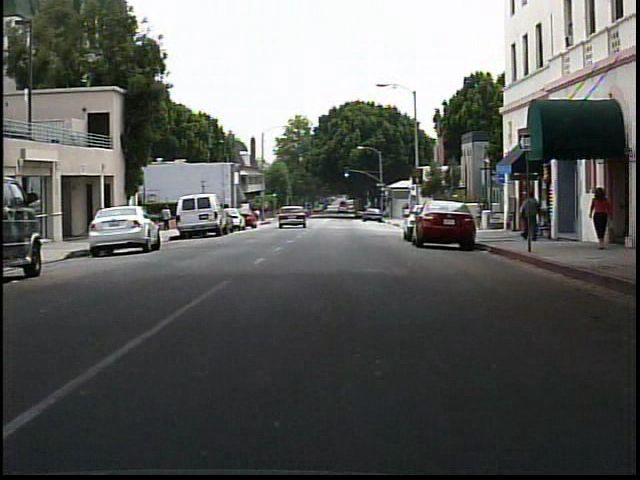person: (585, 187, 615, 250), (517, 190, 545, 243), (160, 202, 176, 234)
